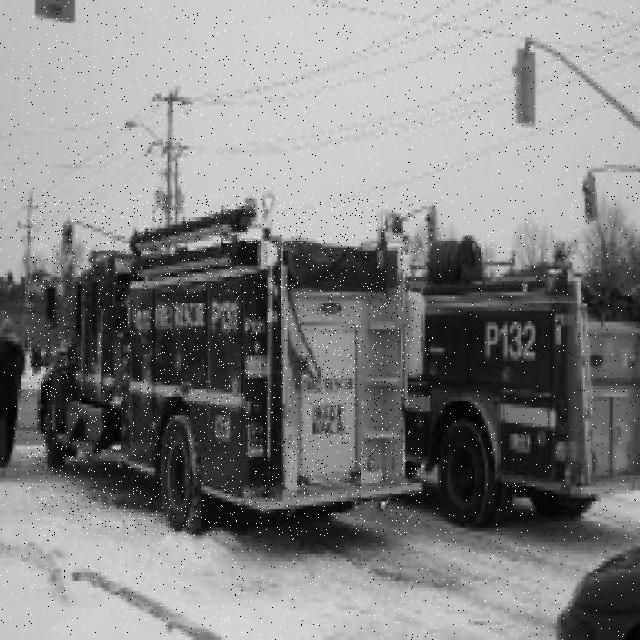Fire Truck: (27, 195, 421, 536)
